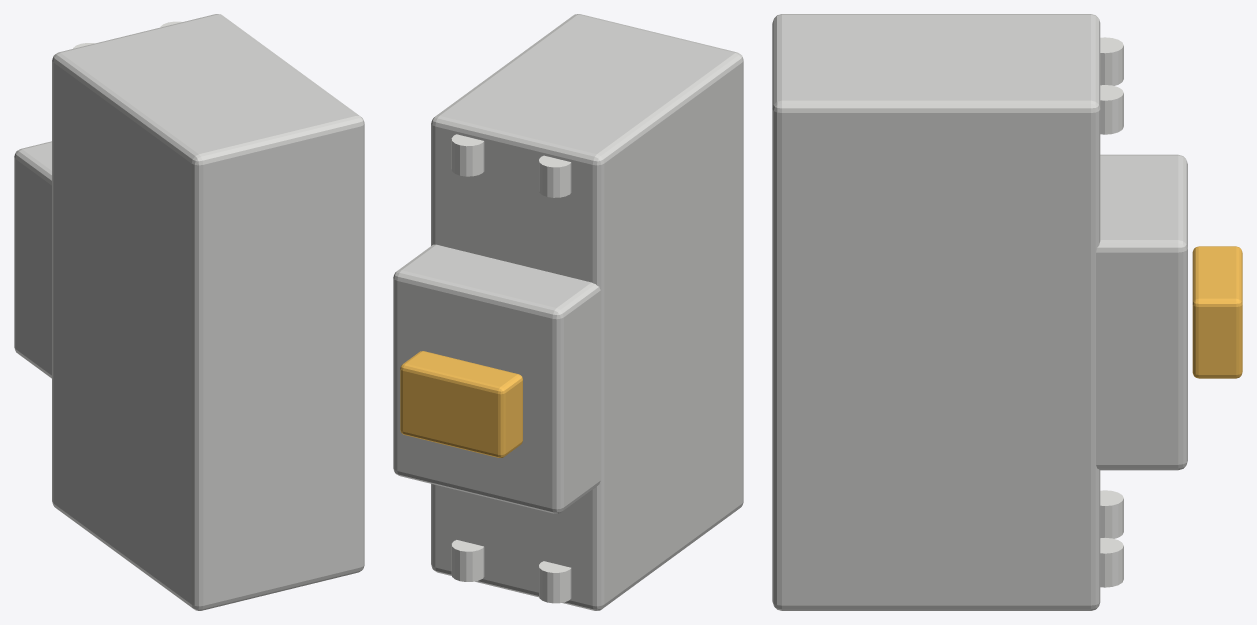
Rendered from generic-rcbo-1pn-20a.glb.
3 renders of one model, left to right at view 1: azimuth 30°, elevation 25°; view 2: azimuth 150°, elevation 25°; view 3: azimuth 270°, elevation 25°, orthographic. The views are drawn at different scales.
Parts seen in each view (by area): view 1: body, front; view 2: body, front, toggle, term-l2, term-t2, term-t1, term-l1; view 3: body, front, toggle, term-l2, term-t2, term-l1, term-t1.
Part boxes in pixels (left/top/right/bottom): body: left=52, top=14, right=364, bottom=610; front: left=14, top=141, right=51, bottom=378; body: left=431, top=14, right=743, bottom=610; front: left=393, top=244, right=600, bottom=513; toggle: left=400, top=351, right=522, bottom=457; term-l2: left=451, top=134, right=484, bottom=176; term-t2: left=451, top=540, right=484, bottom=581; term-t1: left=539, top=561, right=571, bottom=603; term-l1: left=539, top=155, right=571, bottom=197; body: left=772, top=14, right=1100, bottom=610; front: left=1096, top=154, right=1187, bottom=470; toggle: left=1192, top=246, right=1242, bottom=378; term-l2: left=1100, top=85, right=1123, bottom=134; term-t2: left=1100, top=538, right=1123, bottom=587; term-l1: left=1100, top=37, right=1123, bottom=85; term-t1: left=1100, top=490, right=1123, bottom=538.
Bounding box in the file's own units: 0.0355 × 0.09 × 0.0752.
